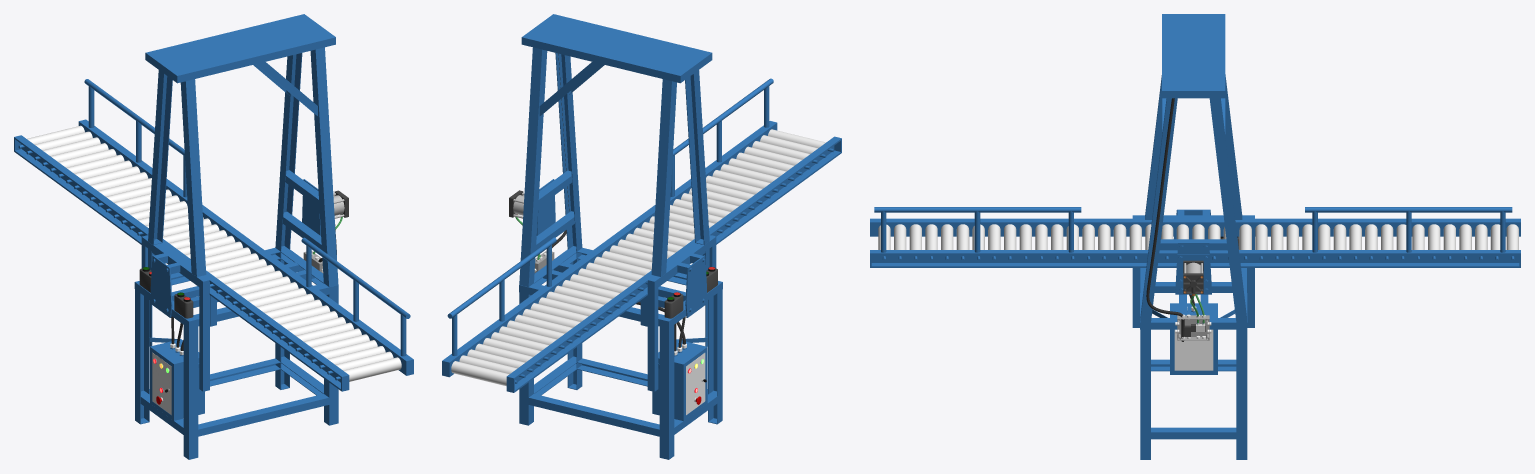
The model's file is machine1.glb.
3 views of the same model, side by side, from view 1: azimuth 30°, elevation 25°; view 2: azimuth 150°, elevation 25°; view 3: azimuth 270°, elevation 25° (orthographic).
Visible parts, largest first — view 1: Cylinder051_74, Cube004_3, Cube093_82, Cube011_37, Cube097_90, Cube001_0, Cube002_1, Cube098_91, Cube005_4, Cube003_2, Cylinder052_79, Plane004_39 (+8 smaller); view 2: Cylinder051_74, Cube004_3, Cube093_82, Cube011_37, Cube097_90, Cube001_0, Cube002_1, Cube098_91, Cube005_4, Cube003_2, Cylinder052_79, Plane004_39 (+8 smaller); view 3: Cube004_3, Cylinder051_74, Cube093_82, Cube011_37, Cube001_0, Cylinder052_79, Cube097_90, Cube002_1, Cube007_6, Cube003_2, Cube005_4, NurbsPath005_109 (+4 smaller).
Part boxes in pixels (x1,y1,x2,y2): Cylinder051_74: (18, 125, 401, 381); Cube004_3: (14, 119, 413, 391); Cube093_82: (145, 14, 335, 83); Cube011_37: (275, 47, 338, 286); Cube097_90: (148, 70, 206, 276); Cube001_0: (135, 252, 338, 459); Cube002_1: (140, 356, 329, 436); Cube098_91: (141, 235, 209, 391); Cube005_4: (150, 339, 204, 420); Cube003_2: (134, 246, 338, 328); Cylinder052_79: (84, 79, 410, 318); Plane004_39: (150, 255, 172, 317); Cylinder051_74: (451, 129, 834, 386); Cube004_3: (442, 121, 841, 392); Cube093_82: (521, 14, 712, 83); Cube011_37: (519, 47, 582, 286); Cube097_90: (651, 70, 709, 276); Cube001_0: (519, 252, 722, 459); Cube002_1: (528, 356, 717, 436); Cube098_91: (647, 235, 716, 391); Cube005_4: (652, 339, 707, 420); Cube003_2: (519, 246, 722, 328); Cylinder052_79: (447, 78, 773, 318); Plane004_39: (685, 255, 706, 317); Cube004_3: (870, 218, 1520, 267); Cylinder051_74: (878, 224, 1518, 261); Cube093_82: (1162, 14, 1225, 98); Cube011_37: (1140, 98, 1246, 322); Cube001_0: (1140, 329, 1247, 459); Cylinder052_79: (874, 207, 1512, 212); Cube097_90: (1145, 74, 1242, 219); Cube002_1: (1151, 359, 1236, 439); Cube007_6: (1174, 329, 1213, 370); Cube003_2: (1140, 268, 1247, 329); Cube005_4: (1170, 303, 1217, 374); NurbsPath005_109: (1146, 98, 1184, 341).
Size of the model in its own units: 1.8 by 3.48 by 5.5.
